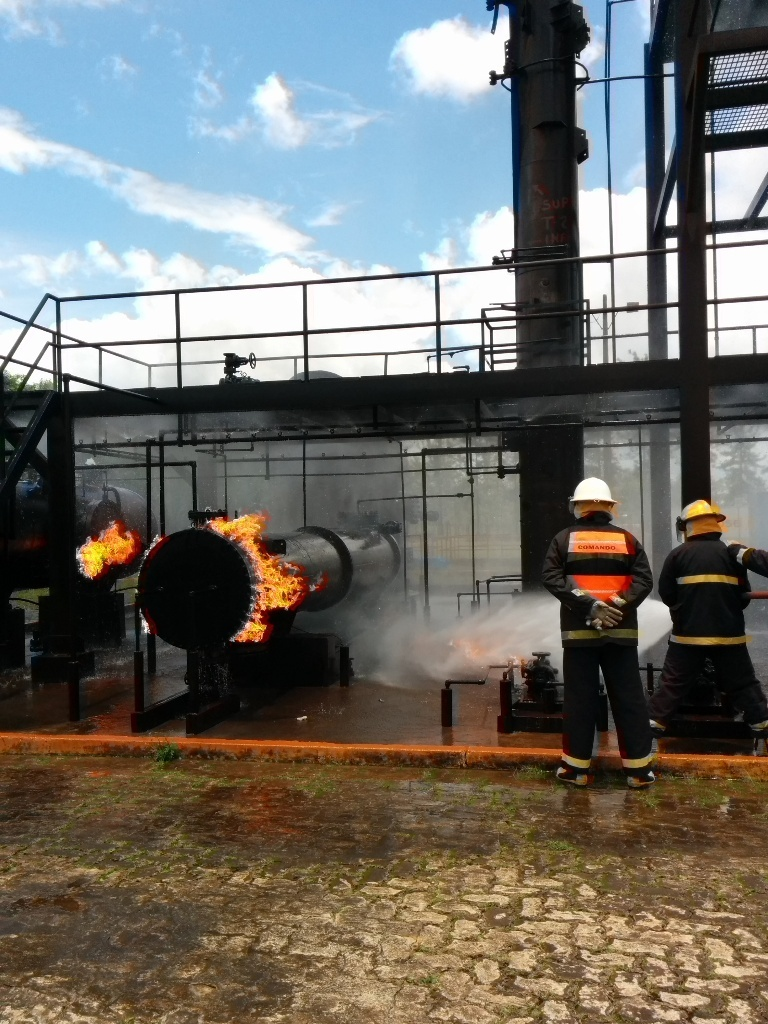fire: (200, 510, 316, 641), (76, 520, 138, 578)
